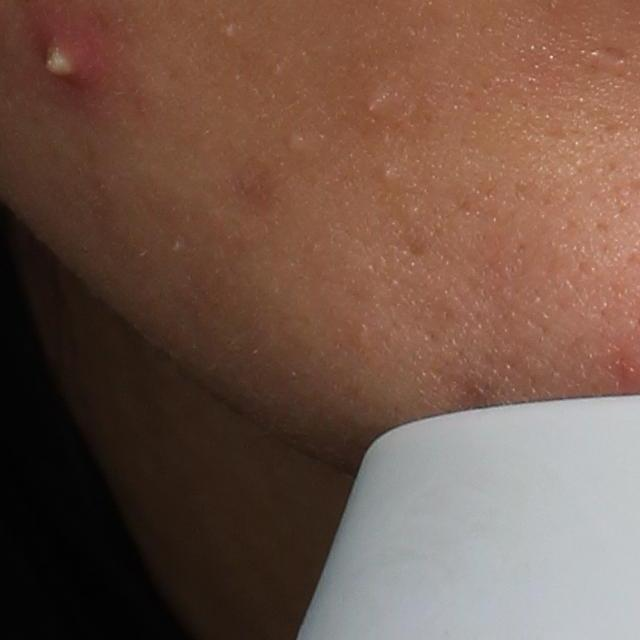atrophic_scar: (595, 42, 632, 66)
comedo: (279, 123, 310, 157), (362, 92, 386, 122), (380, 163, 398, 186), (221, 19, 236, 40)
